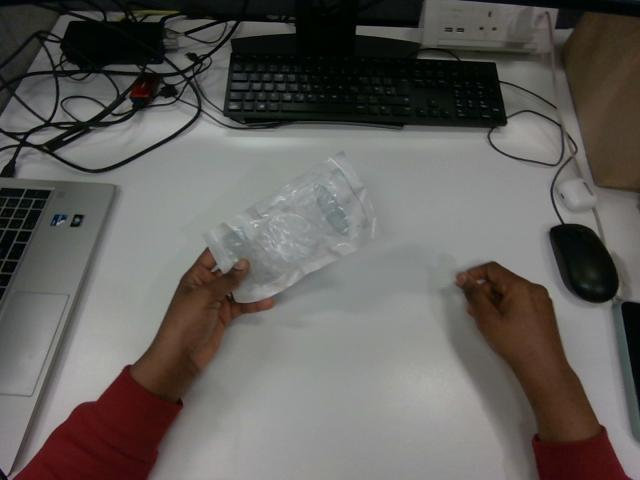gallipot: (204, 152, 378, 302)
